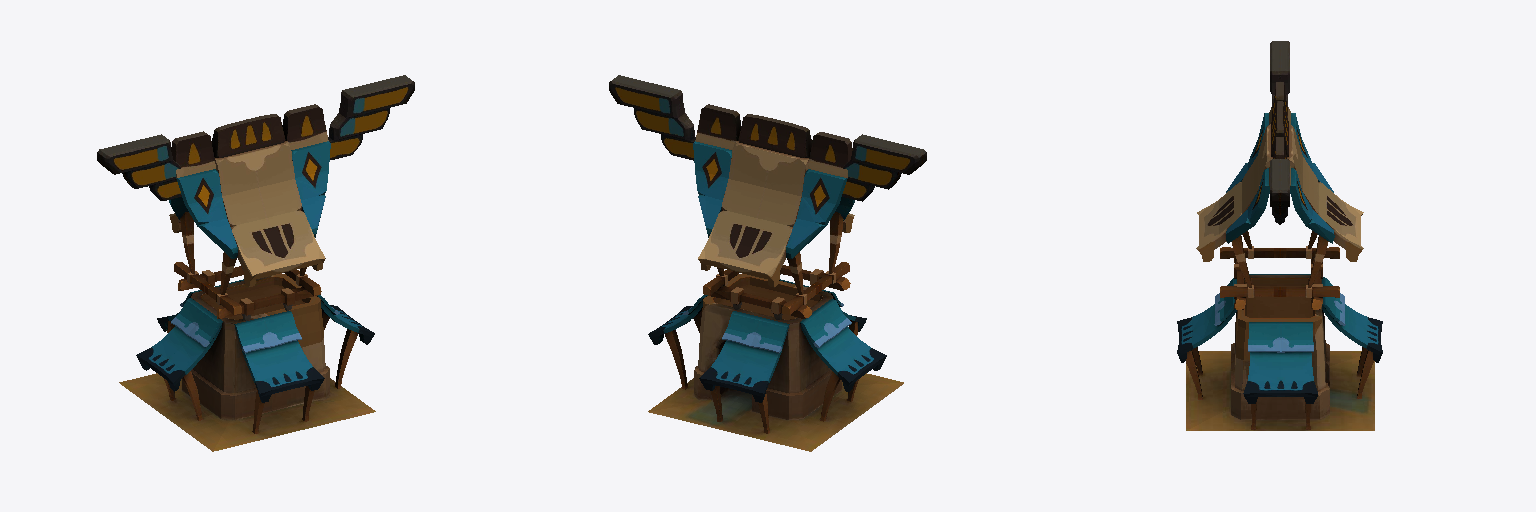
The picture shows the model from 3 angles: view 1: azimuth 30°, elevation 25°; view 2: azimuth 150°, elevation 25°; view 3: azimuth 270°, elevation 25°; orthographic projection.
Parts seen in each view (by area): view 1: BUD_Building_D_01, BUD_Building_C_02; view 2: BUD_Building_D_01, BUD_Building_C_02; view 3: BUD_Building_D_01, BUD_Building_C_02.
Boxes of the visible parts, box(x1,y1,x2,y2) form: BUD_Building_D_01: box(119, 104, 375, 451); BUD_Building_C_02: box(97, 75, 414, 200); BUD_Building_D_01: box(648, 104, 903, 451); BUD_Building_C_02: box(609, 75, 926, 201); BUD_Building_D_01: box(1177, 82, 1382, 430); BUD_Building_C_02: box(1270, 41, 1289, 224).
Bounding box in the file's own units: 6.81 × 5.92 × 3.93.
2 materials, 2 textured.